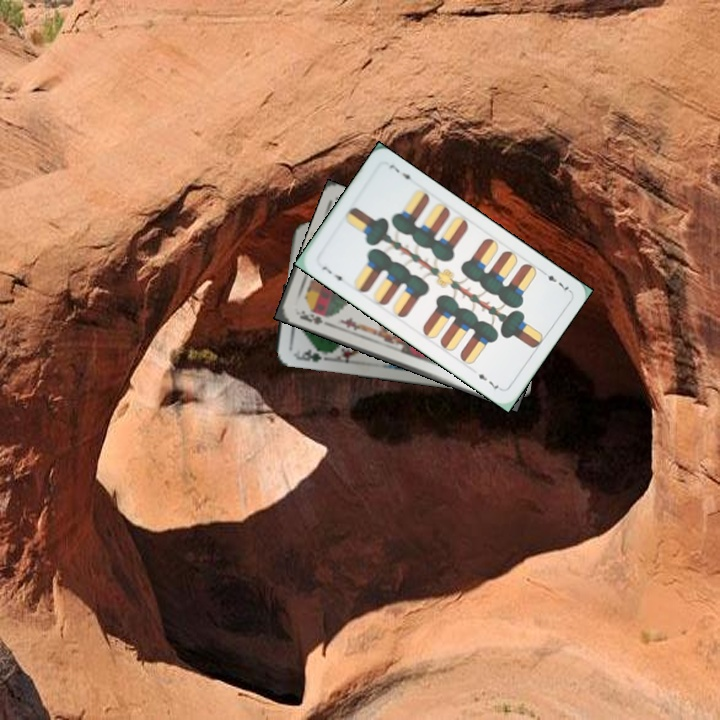E7: (537, 266, 573, 294), (318, 262, 348, 287)
GK: (289, 345, 329, 365)
SK: (295, 306, 332, 327)
